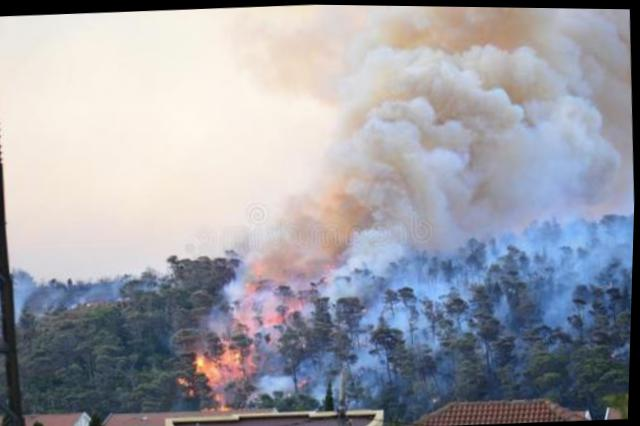fire: (175, 245, 341, 413)
